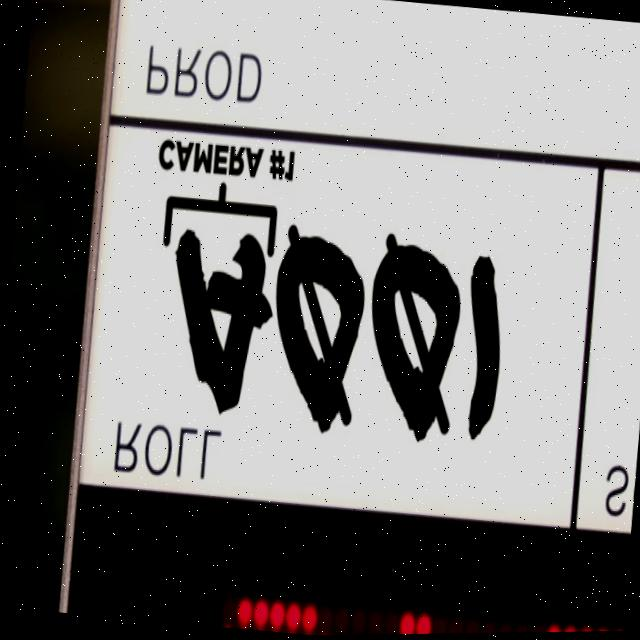Clapperboard: (43, 0, 640, 639)
